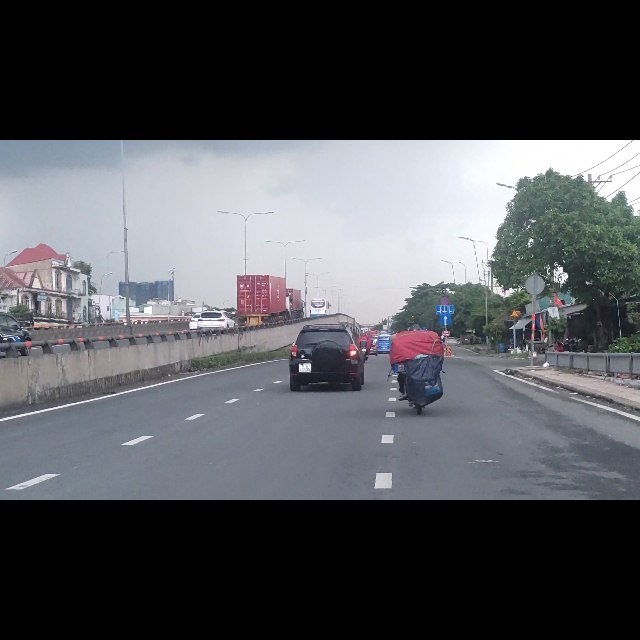bien_cam: (440, 311, 452, 330), (441, 279, 449, 293)
